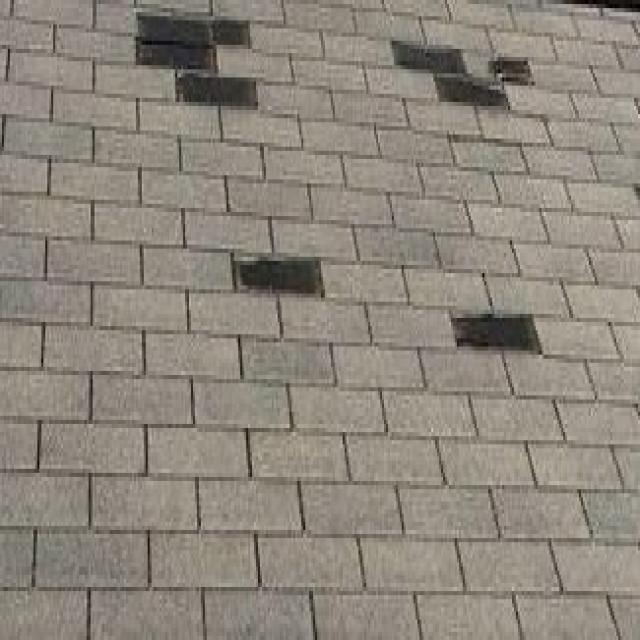damage: (123, 4, 260, 113), (387, 37, 540, 120), (438, 295, 549, 364), (225, 243, 334, 303)
